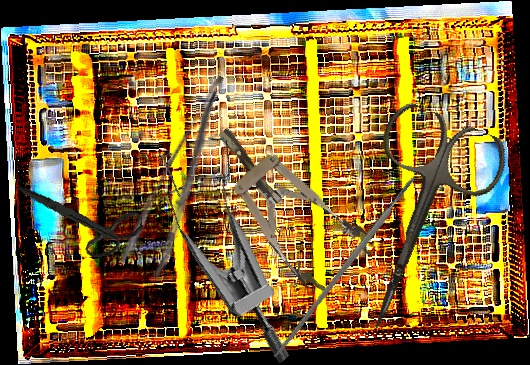Dressing Forceps: (115, 73, 257, 281)
Iris Scissors: (314, 97, 516, 352), (16, 169, 147, 267)
Scalpel Handle: (271, 174, 419, 361)
Speculum: (119, 116, 364, 365), (193, 104, 379, 301)
